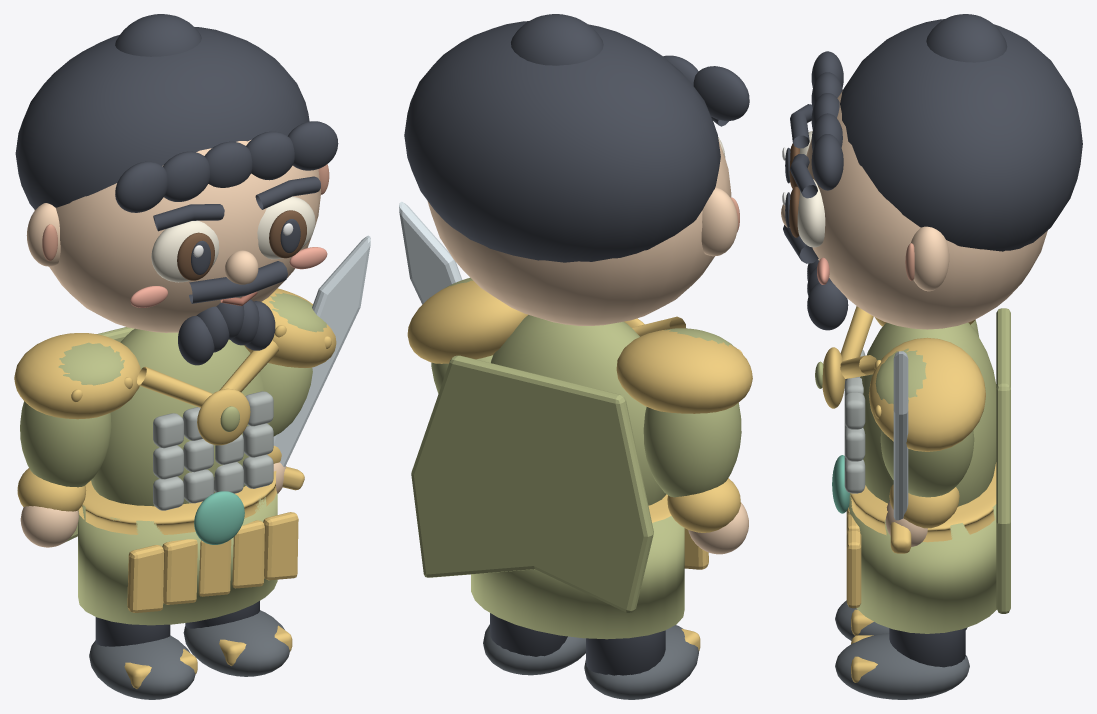
The model's file is liubei.fbx.
3 views of the same model, side by side, from view 1: azimuth 30°, elevation 25°; view 2: azimuth 150°, elevation 25°; view 3: azimuth 270°, elevation 25° (orthographic). The views are drawn at different scales.
Parts seen in each view (by area): view 1: hair_mass, face, body, robe_skirt, shoulder_gold.001, sleeve.001, dao_blade, boot, boot.001, belt, hair_bun, shoulder_gold (+48 smaller); view 2: hair_mass, cape, face, robe_skirt, shoulder_gold.001, body, sleeve.001, shoulder_gold, hair_bun, boot, dao_blade, leg (+8 smaller); view 3: hair_mass, face, robe_skirt, shoulder_gold, body, boot.001, cape, sleeve, hair_bun, belt, dao_blade, leg.001 (+24 smaller).
Boxes of the visible parts, <box> form: hair_mass: <box>15,27,309,209</box>; face: <box>34,140,321,332</box>; body: <box>91,328,269,506</box>; robe_skirt: <box>78,493,277,625</box>; shoulder_gold.001: <box>14,333,140,419</box>; sleeve.001: <box>20,401,111,487</box>; dao_blade: <box>273,235,370,466</box>; boot: <box>89,635,195,699</box>; boot.001: <box>183,610,289,676</box>; belt: <box>78,471,276,534</box>; hair_bun: <box>115,14,201,56</box>; shoulder_gold: <box>244,288,336,367</box>; hair_mass: <box>404,21,720,262</box>; cape: <box>411,355,653,612</box>; face: <box>427,140,731,325</box>; robe_skirt: <box>471,516,684,639</box>; shoulder_gold.001: <box>616,329,752,413</box>; body: <box>491,315,666,505</box>; sleeve.001: <box>643,402,741,497</box>; shoulder_gold: <box>407,280,527,363</box>; hair_bun: <box>511,14,603,65</box>; boot: <box>584,625,698,699</box>; dao_blade: <box>399,201,462,304</box>; leg: <box>586,630,665,675</box>; hair_mass: <box>840,19,1082,251</box>; face: <box>806,90,1047,329</box>; robe_skirt: <box>849,493,996,633</box>; shoulder_gold: <box>868,337,985,451</box>; body: <box>860,322,996,506</box>; boot.001: <box>835,633,969,699</box>; cape: <box>996,308,1010,613</box>; sleeve: <box>880,430,974,497</box>; hair_bun: <box>926,14,1007,62</box>; belt: <box>850,462,996,542</box>; dao_blade: <box>893,351,908,520</box>; leg.001: <box>889,628,965,667</box>.
Size of the model in its own units: 1.35 by 2.44 by 1.03.
